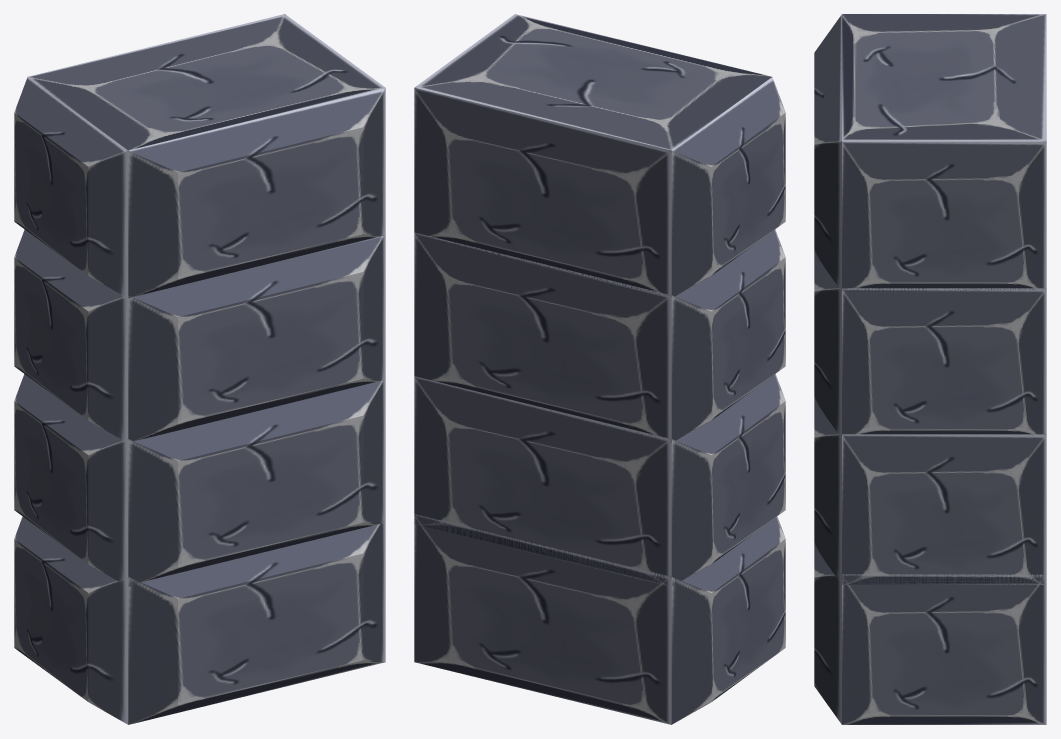
File: Corner Pillar.FBX
3 views of the same model, side by side, from view 1: azimuth 30°, elevation 25°; view 2: azimuth 150°, elevation 25°; view 3: azimuth 270°, elevation 25° (orthographic).
Visible parts, largest first — view 1: Box050; view 2: Box050; view 3: Box050.
Part boxes in pixels (bbox=[...]): Box050: bbox=[14, 14, 385, 724]; Box050: bbox=[414, 14, 785, 724]; Box050: bbox=[814, 14, 1046, 724].
Size of the model in its own units: 162 by 313 by 113.
